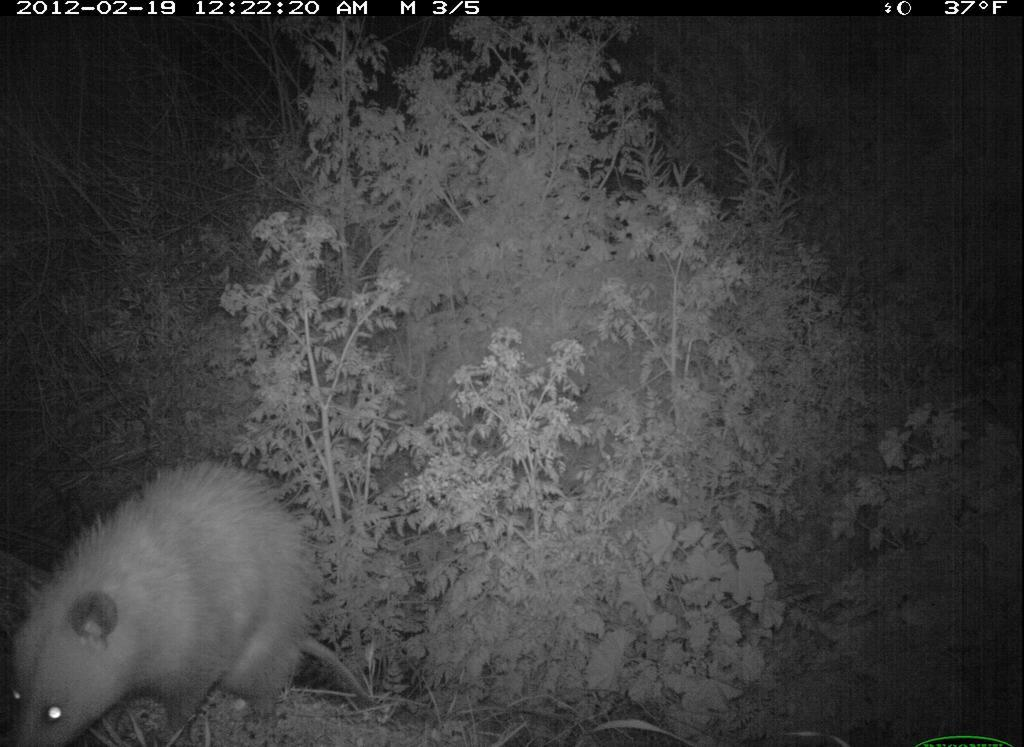opossum: (11, 451, 379, 747)
